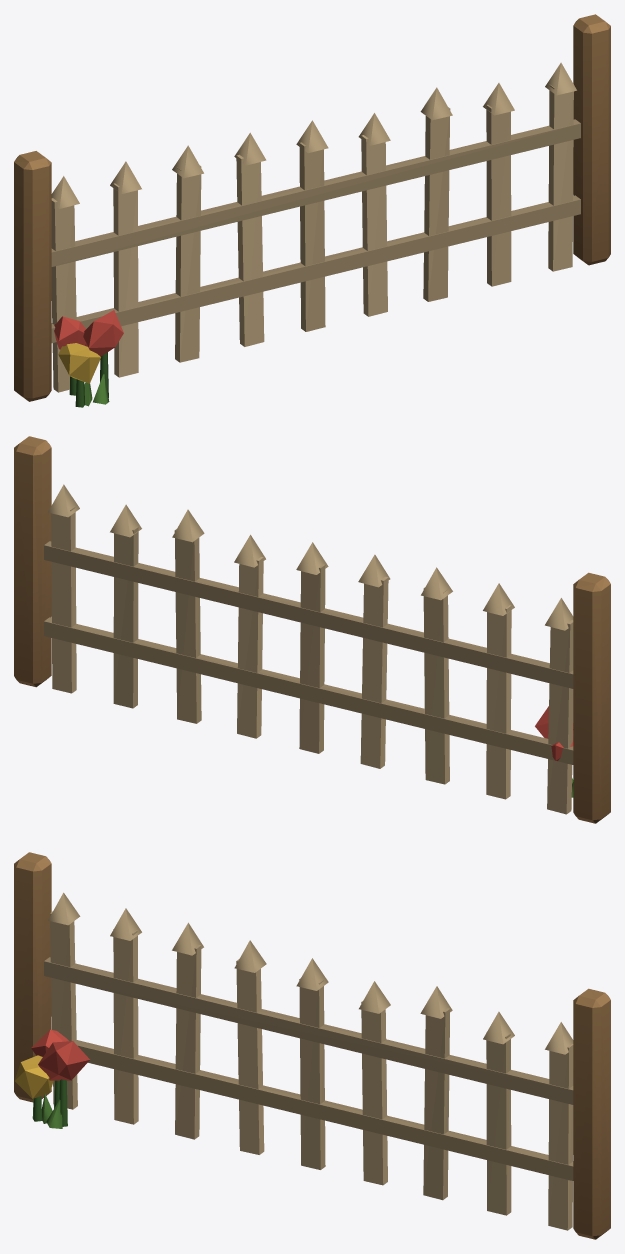
Rendered from picket-fence-01.glb.
The picture shows the model from 3 angles, top to bottom: view 1: azimuth 30°, elevation 25°; view 2: azimuth 150°, elevation 25°; view 3: azimuth 330°, elevation 25°; orthographic projection.
Parts seen in each view (by area): view 1: picket_fence_01; view 2: picket_fence_01; view 3: picket_fence_01.
Part boxes in pixels (x1=…): picket_fence_01: x1=14, y1=14, x2=610, y2=407; picket_fence_01: x1=14, y1=436, x2=610, y2=823; picket_fence_01: x1=14, y1=852, x2=610, y2=1239.
Size of the model in its own units: 2.1 by 0.826 by 0.2498.
